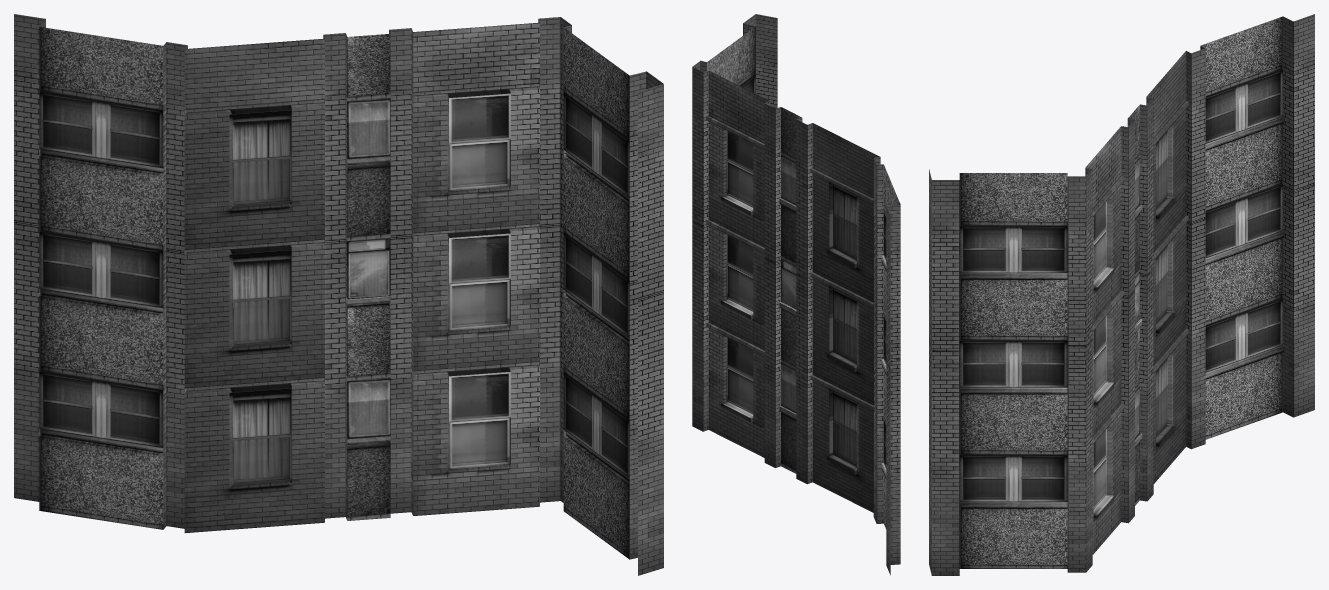
The model's file is chinatown building.fbx.
The picture shows the model from 3 angles, left to right: view 1: azimuth 30°, elevation 25°; view 2: azimuth 150°, elevation 25°; view 3: azimuth 270°, elevation 25°; orthographic projection. The views are drawn at different scales.
Visible parts, largest first — view 1: chinatown_building_3; view 2: chinatown_building_3; view 3: chinatown_building_3.
Boxes of the visible parts, <box> form: chinatown_building_3: <box>14,14,663,575</box>; chinatown_building_3: <box>692,14,900,575</box>; chinatown_building_3: <box>929,14,1314,575</box>.
Size of the model in its own units: 1229 by 1367 by 1207.
